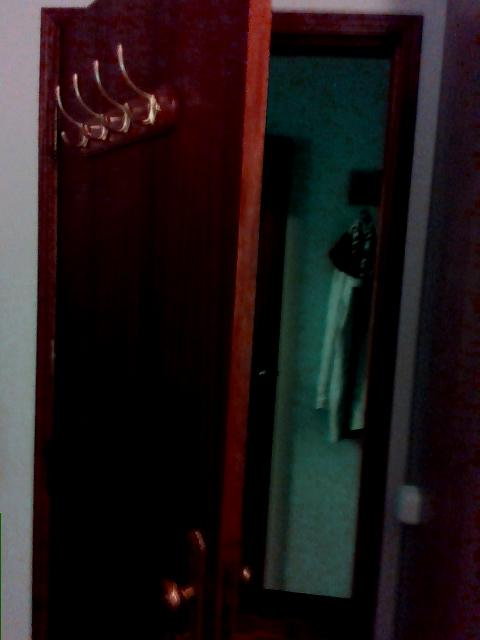semi_door: (31, 4, 425, 639)
